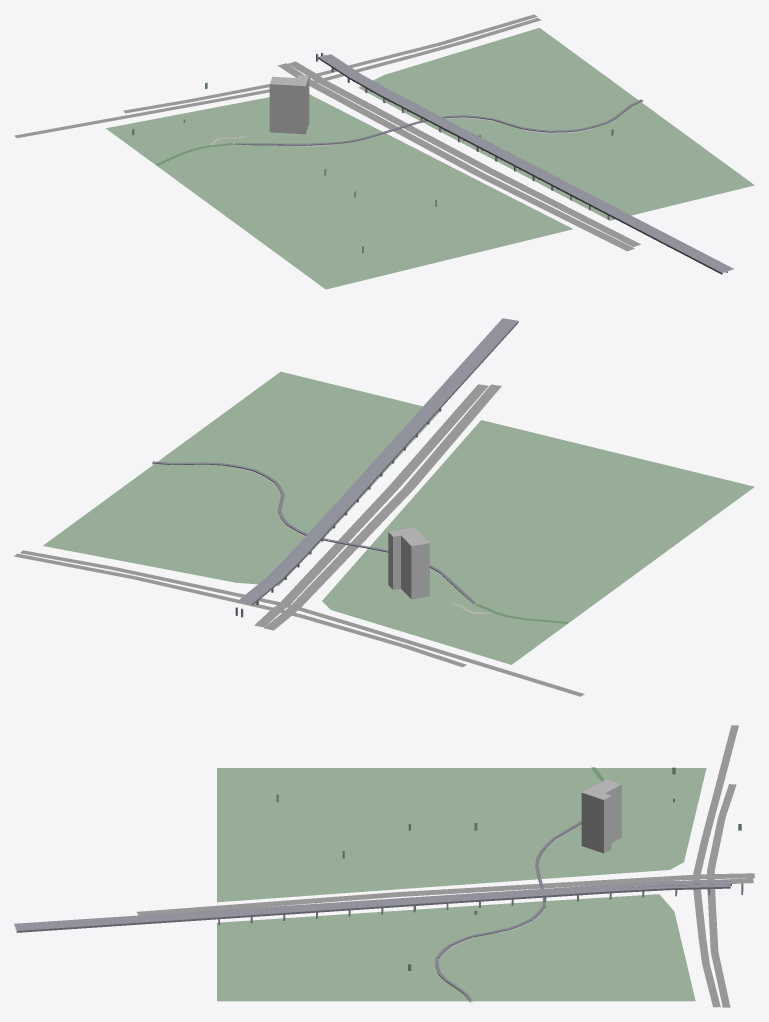
3 renders of one model, top to bottom at view 1: azimuth 30°, elevation 25°; view 2: azimuth 150°, elevation 25°; view 3: azimuth 270°, elevation 25°, orthographic. The views are drawn at different scales.
Bounding box in the file's own units: 603 × 54.9 × 673.
